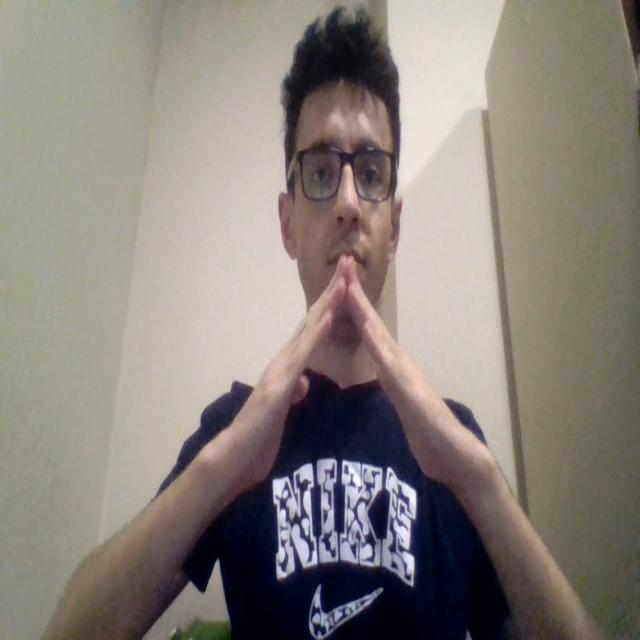house: (232, 256, 473, 486)
